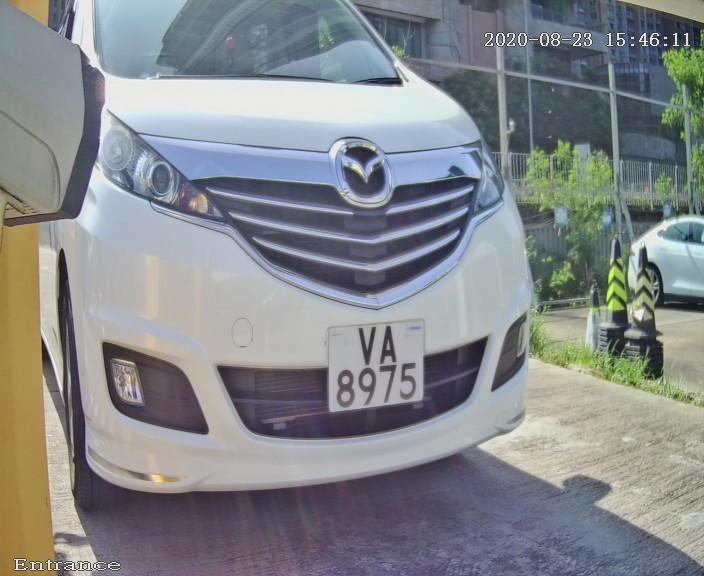Car: (23, 1, 557, 551)
License Plate: (321, 304, 434, 427)
